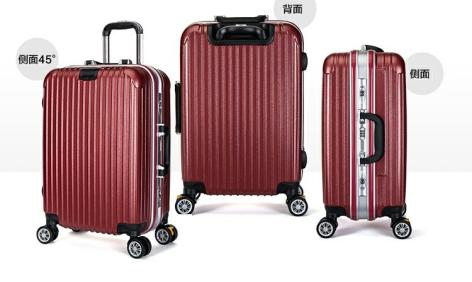luggage: (174, 13, 311, 219), (316, 40, 412, 243)
